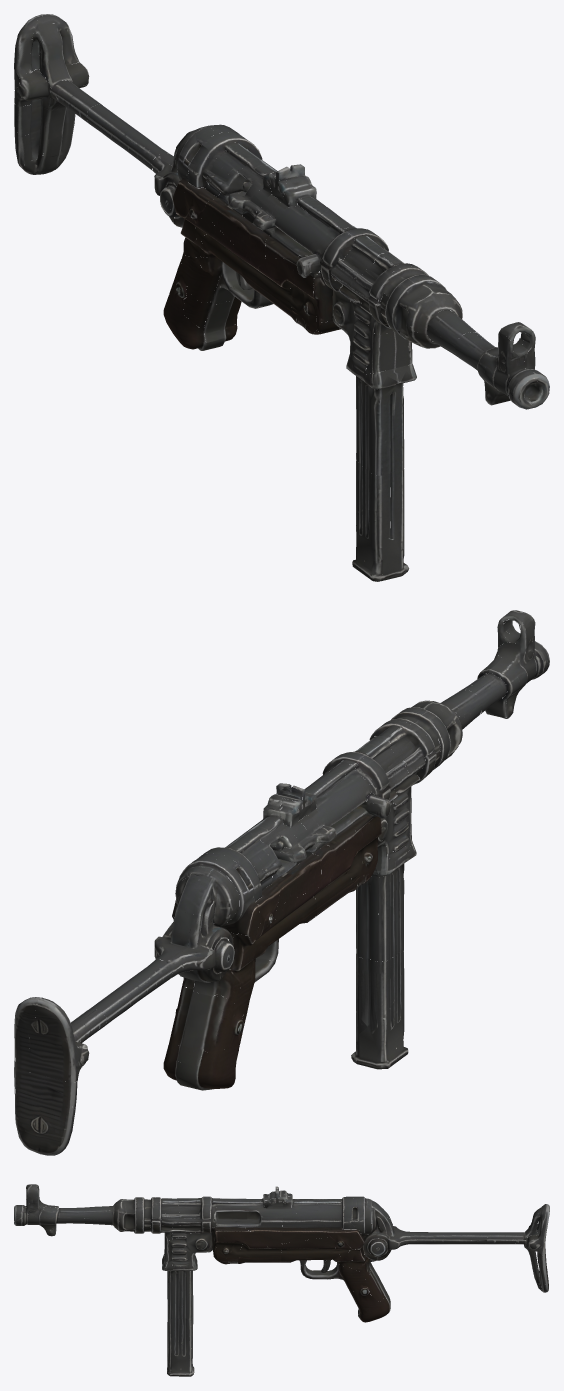
3 renders of one model, top to bottom at view 1: azimuth 30°, elevation 25°; view 2: azimuth 150°, elevation 25°; view 3: azimuth 270°, elevation 25°, orthographic. The views are drawn at different scales.
Parts seen in each view (by area): view 1: tripo_node_1d13787d-bc6c-4be9-9f75-7f61e1b3bbb5, magazine; view 2: tripo_node_1d13787d-bc6c-4be9-9f75-7f61e1b3bbb5, magazine; view 3: tripo_node_1d13787d-bc6c-4be9-9f75-7f61e1b3bbb5, magazine.
Part boxes in pixels (x1,y1,x2,y2): tripo_node_1d13787d-bc6c-4be9-9f75-7f61e1b3bbb5: [14, 14, 549, 409]; magazine: [346, 355, 416, 581]; tripo_node_1d13787d-bc6c-4be9-9f75-7f61e1b3bbb5: [14, 610, 549, 1155]; magazine: [351, 844, 416, 1069]; tripo_node_1d13787d-bc6c-4be9-9f75-7f61e1b3bbb5: [14, 1184, 549, 1322]; magazine: [162, 1258, 197, 1376].
Size of the model in its own units: 0.0826 by 0.3204 by 0.8331.
Materials: 1 (1 with a texture image).
